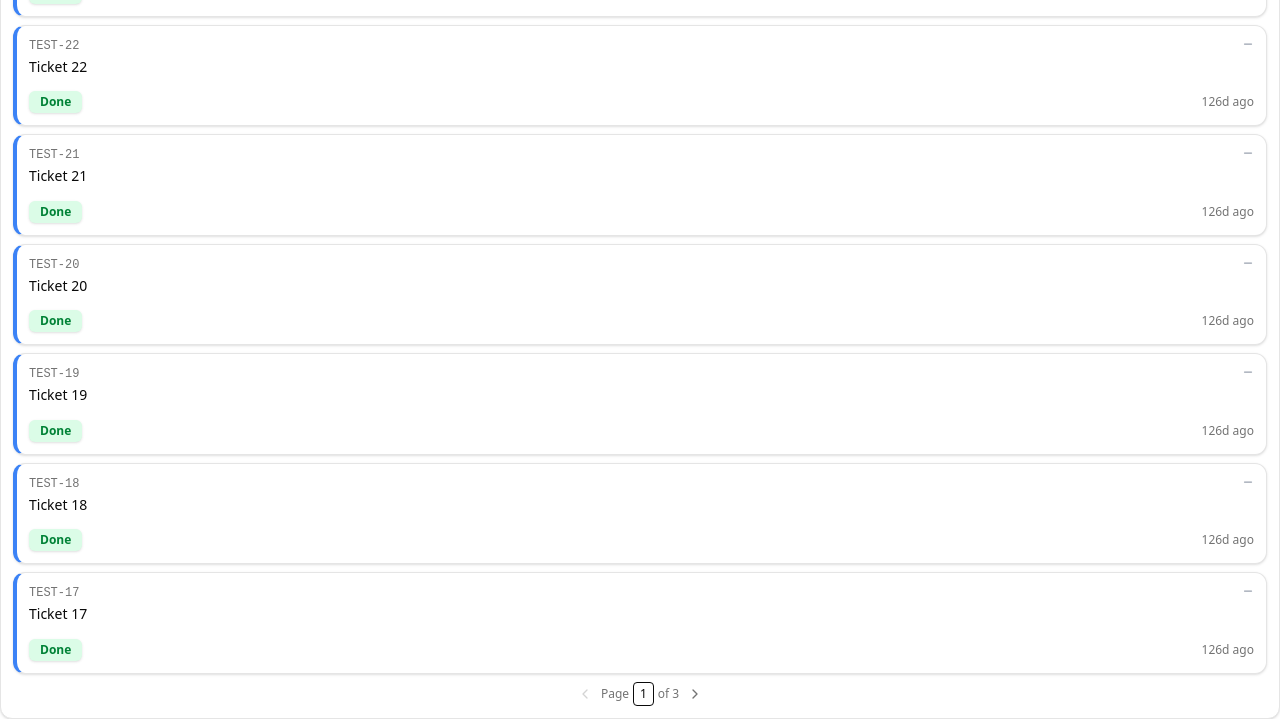
Test case: KanbanColumn › lets you jump to a page by editing the current page number
(page scrolled)
Replace the text in the field named "done current page" with "3abc": (643, 694) [633, 682, 654, 706]
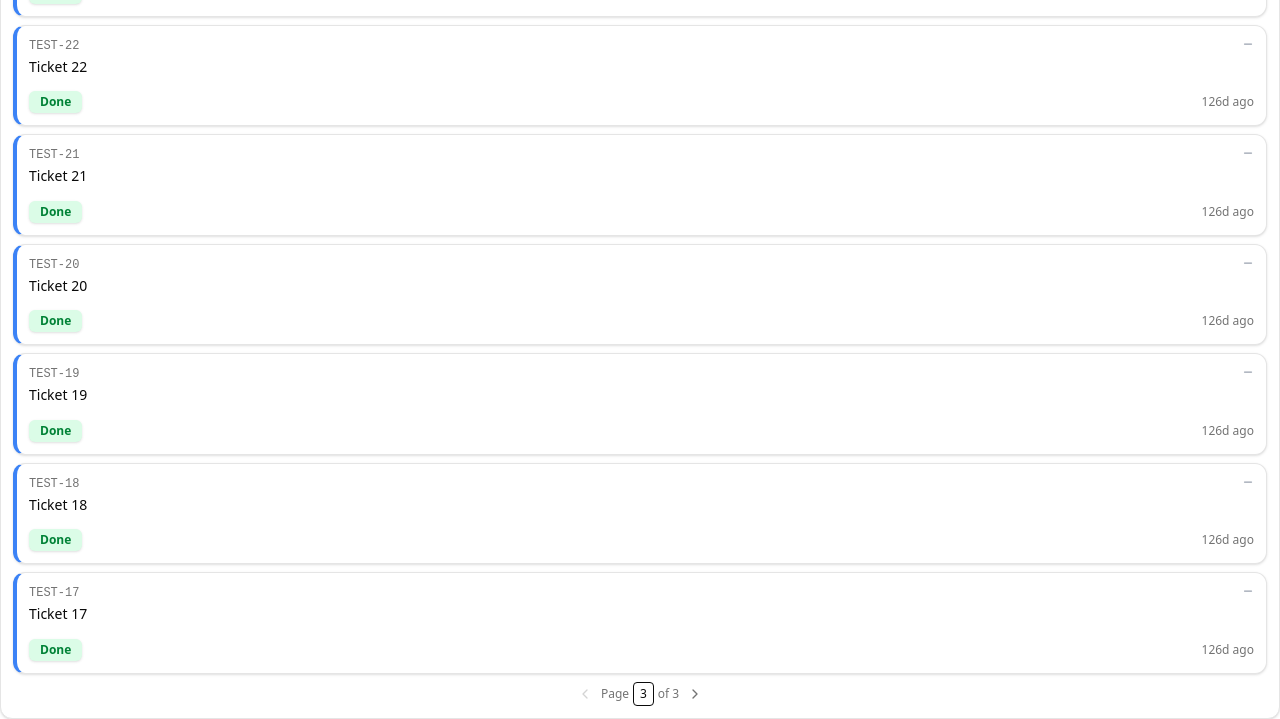
Check: the field named "done current page" holds "3"
Leave the field named "done current page", box [633, 682, 654, 706]
(page scrolled)
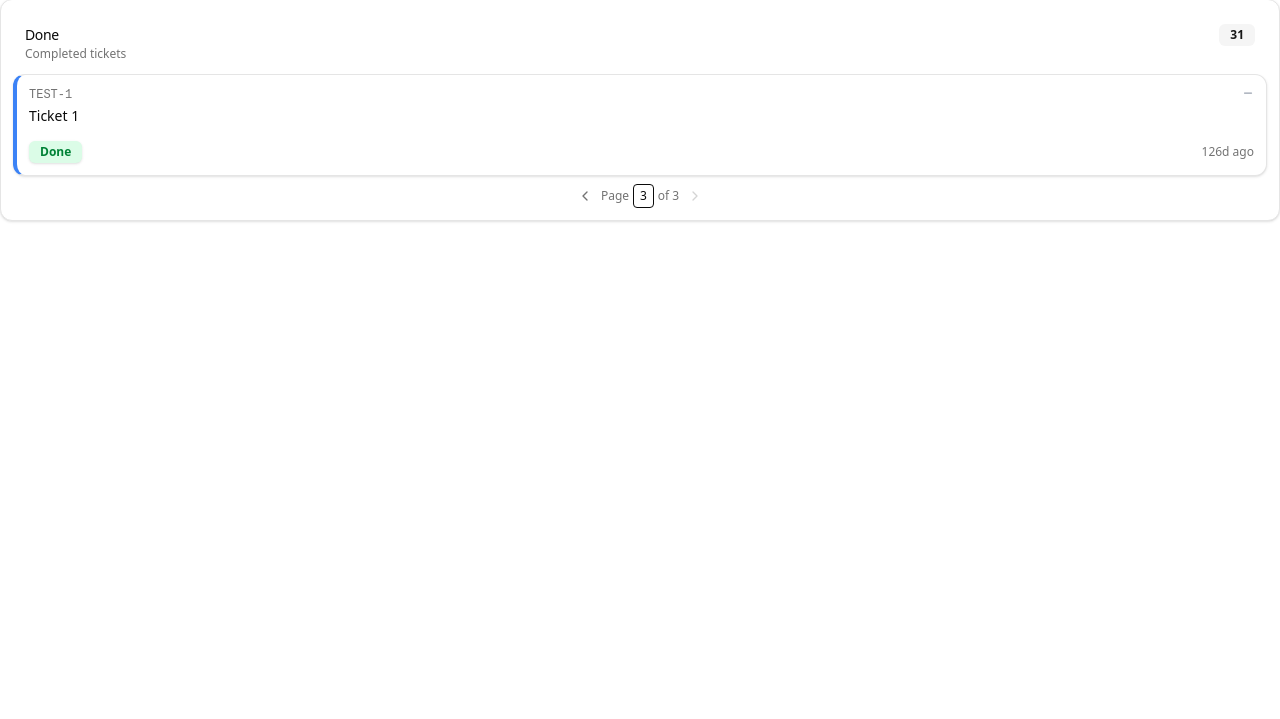
Check: the text "of 3" is shown, box [658, 188, 679, 204]
Check: the field named "done current page" holds "3", box [633, 184, 654, 208]
Check: the element named "Open ticket TEST-1" is shown, box [13, 74, 1267, 176]
